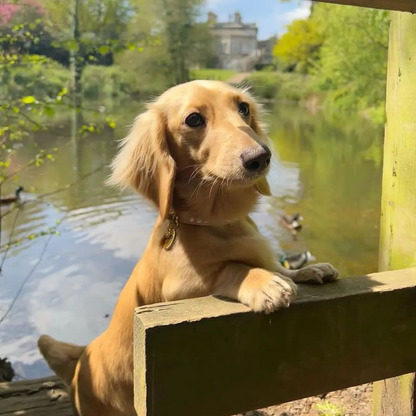dachshund: (103, 75, 337, 320)
